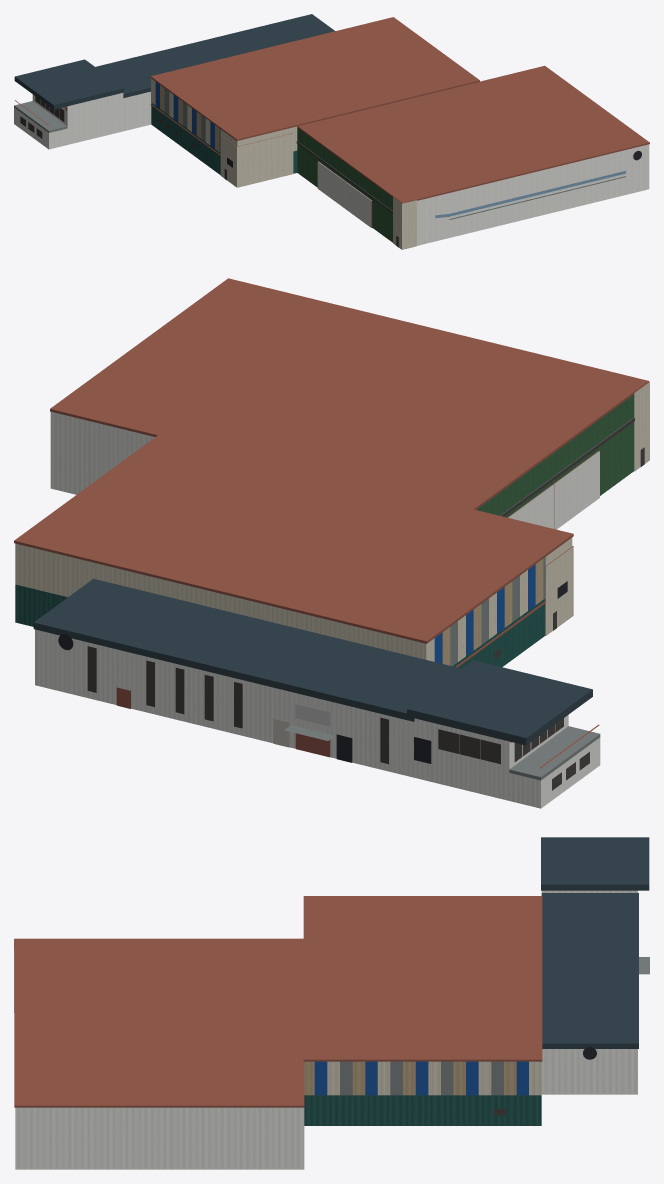
Rendered from cyxd_hangar18_lod2.gltf.
3 renders of one model, top to bottom at view 1: azimuth 30°, elevation 25°; view 2: azimuth 150°, elevation 25°; view 3: azimuth 270°, elevation 25°, orthographic. The views are drawn at different scales.
Parts seen in each view (by area): view 1: cyxd_hangar18; view 2: cyxd_hangar18; view 3: cyxd_hangar18.
Part boxes in pixels (x1,y1,x2,y2): cyxd_hangar18: (14, 14, 649, 249); cyxd_hangar18: (14, 278, 649, 808); cyxd_hangar18: (14, 837, 649, 1169).
Size of the model in its own units: 88.13 by 9.9 by 85.76.
